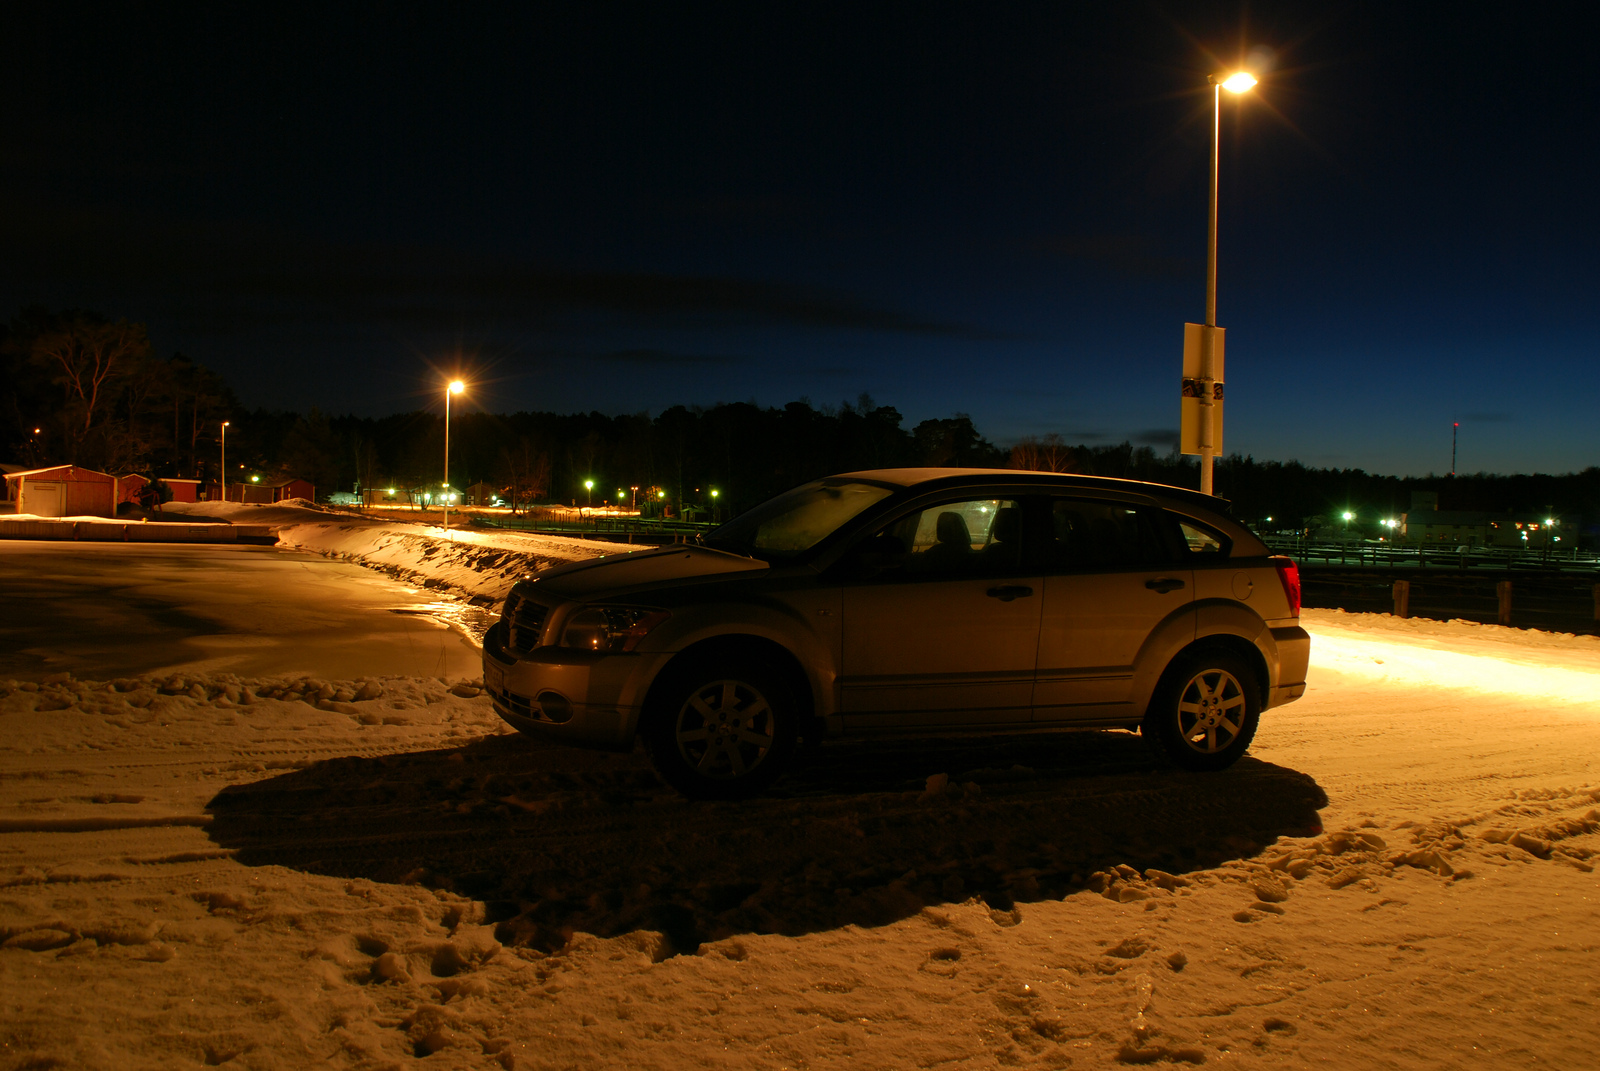car: (482, 454, 1316, 787)
